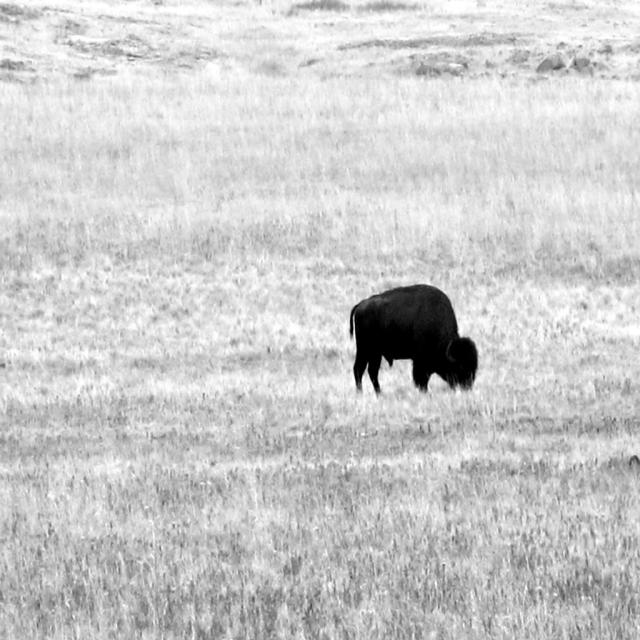Deer: (349, 282, 479, 400)
